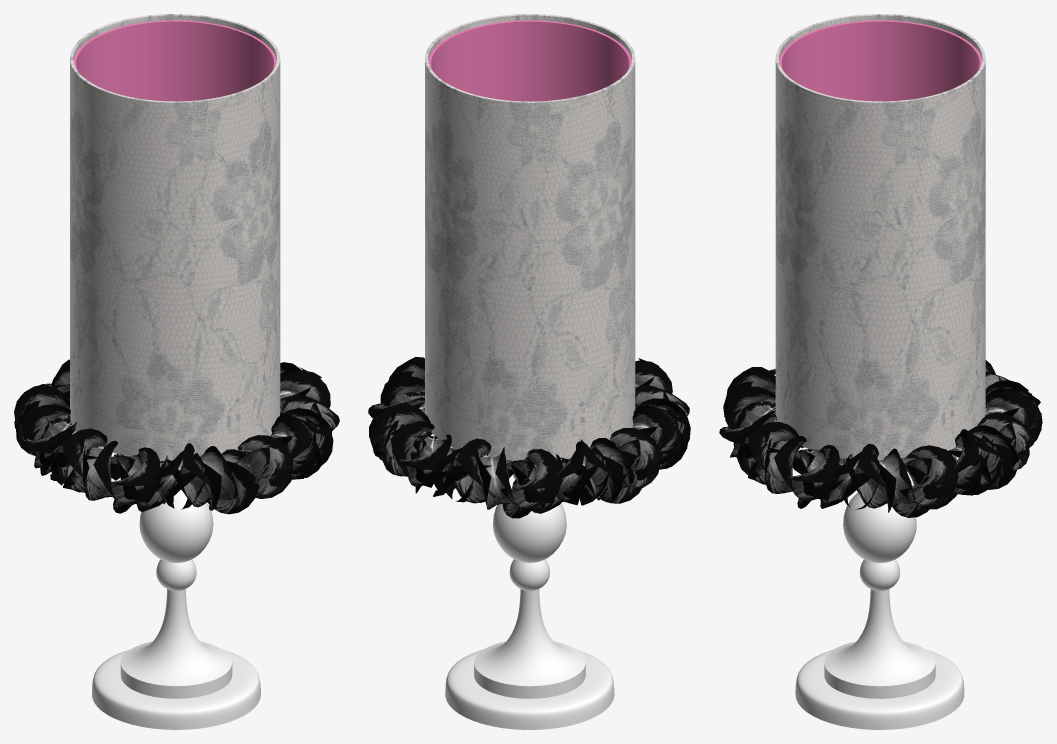
File: LampLight.FBX
3 renders of one model, left to right at view 1: azimuth 30°, elevation 25°; view 2: azimuth 150°, elevation 25°; view 3: azimuth 270°, elevation 25°, orthographic.
Parts seen in each view (by area): view 1: giraffa_lamp; view 2: giraffa_lamp; view 3: giraffa_lamp.
Boxes of the visible parts, left/top/right/bottom form: giraffa_lamp: left=14, top=14, right=339, bottom=729; giraffa_lamp: left=368, top=14, right=690, bottom=729; giraffa_lamp: left=719, top=14, right=1042, bottom=729.
Size of the model in its own units: 101 by 220 by 101.
4 materials, 2 textured.
